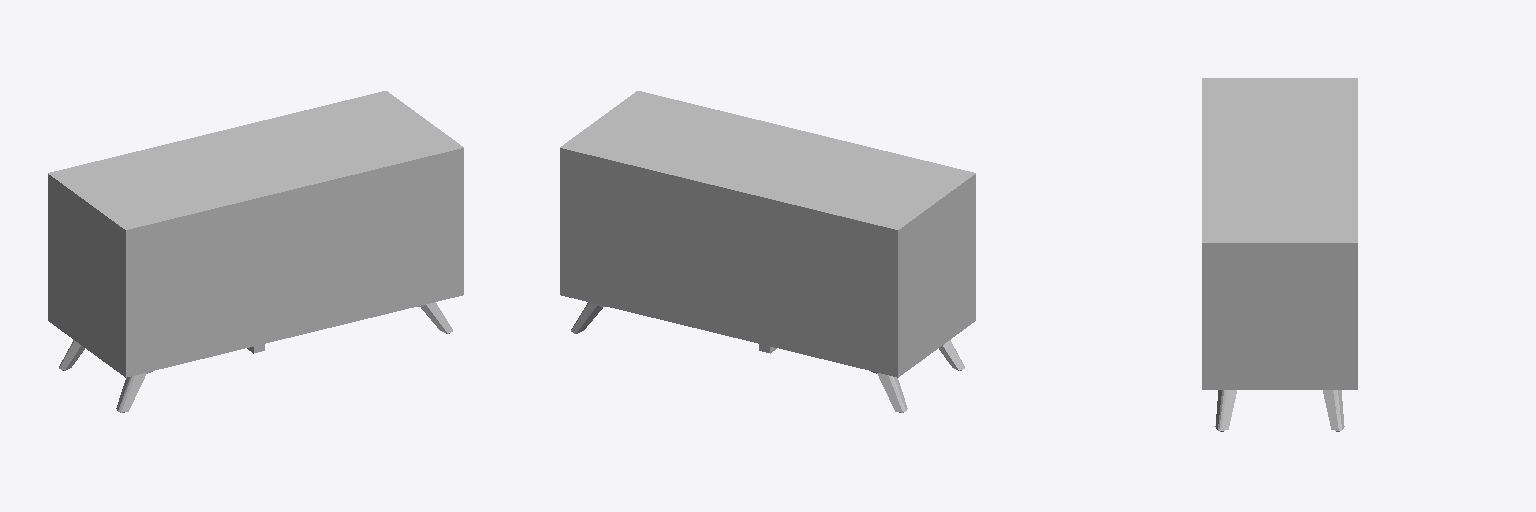
Rendered from MuebleParaTele.obj.
3 renders of one model, left to right at view 1: azimuth 30°, elevation 25°; view 2: azimuth 150°, elevation 25°; view 3: azimuth 270°, elevation 25°, orthographic.
Parts seen in each view (by area): view 1: Marlowe_Medium_Media_Stand_LENTE; view 2: Marlowe_Medium_Media_Stand_LENTE; view 3: Marlowe_Medium_Media_Stand_LENTE.
Boxes of the visible parts, <box> form: Marlowe_Medium_Media_Stand_LENTE: <box>48,91,463,412</box>; Marlowe_Medium_Media_Stand_LENTE: <box>560,91,975,412</box>; Marlowe_Medium_Media_Stand_LENTE: <box>1202,78,1357,431</box>.
Bounding box in the file's own units: 1.27 × 0.684 × 0.5066.